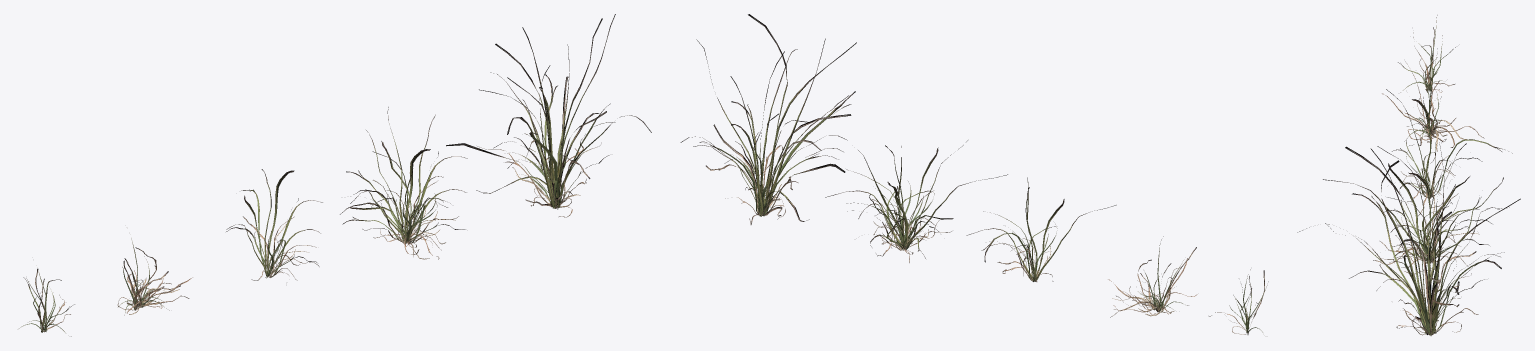
The model's file is grass_medium_02_1k_md.glb.
3 views of the same model, side by side, from view 1: azimuth 30°, elevation 25°; view 2: azimuth 150°, elevation 25°; view 3: azimuth 270°, elevation 25° (orthographic). The views are drawn at different scales.
Visible parts, largest first — view 1: grass_medium_02_e, grass_medium_02_d, grass_medium_02_c, grass_medium_02_b, grass_medium_02_a; view 2: grass_medium_02_e, grass_medium_02_d, grass_medium_02_c, grass_medium_02_b, grass_medium_02_a; view 3: grass_medium_02_e, grass_medium_02_d, grass_medium_02_c, grass_medium_02_b, grass_medium_02_a.
Boxes of the visible parts, x1,y1,x2,y2 form: grass_medium_02_e: (446,14,651,217); grass_medium_02_d: (340,107,467,259); grass_medium_02_c: (226,169,322,280); grass_medium_02_b: (117,238,192,315); grass_medium_02_a: (19,268,74,336); grass_medium_02_e: (680,14,856,224); grass_medium_02_d: (825,140,1007,262); grass_medium_02_c: (966,177,1116,281); grass_medium_02_b: (1108,236,1197,317); grass_medium_02_a: (1209,269,1268,334); grass_medium_02_e: (1297,142,1520,335); grass_medium_02_d: (1323,143,1509,274); grass_medium_02_c: (1386,89,1512,215); grass_medium_02_b: (1382,48,1484,151); grass_medium_02_a: (1398,15,1455,92).
Size of the model in its own units: 1.31 by 0.4053 by 0.4332.
Materials: 1 (1 with a texture image).
